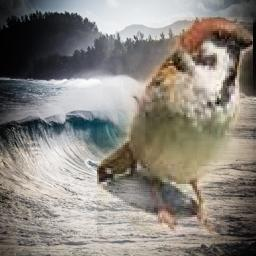Sparrow: (97, 18, 253, 235)
